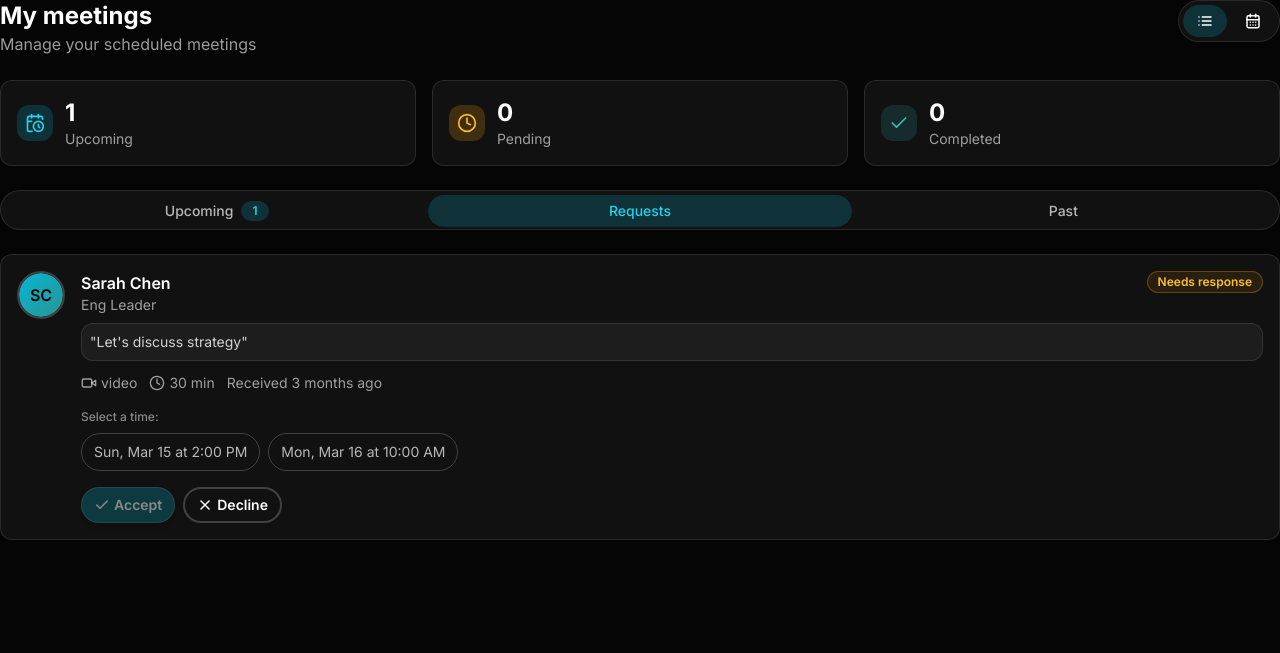
Test: MeetingsContainer › should toggle to calendar view
The image size is (1280, 653).
Expected: the heading "My meetings" is shown, [0,1,152,30]
Click the 2nd button at (1253, 21), box [1231,5,1275,37]
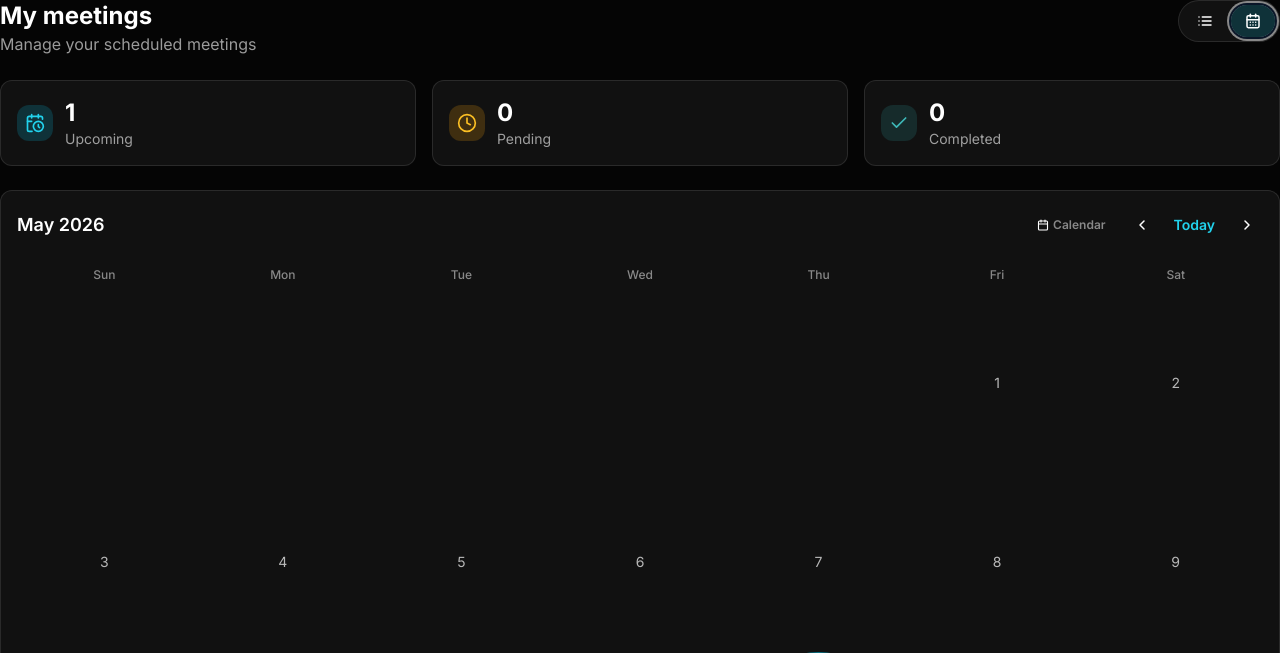
Expected: the text "Sun" is shown, [93,267,115,282]
Expected: the text "Tue" is shown, [451,267,472,282]
